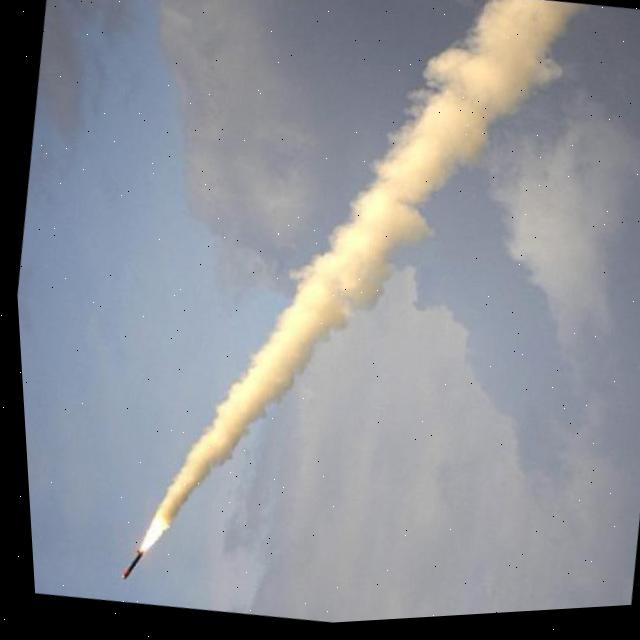missile: (114, 551, 138, 584)
